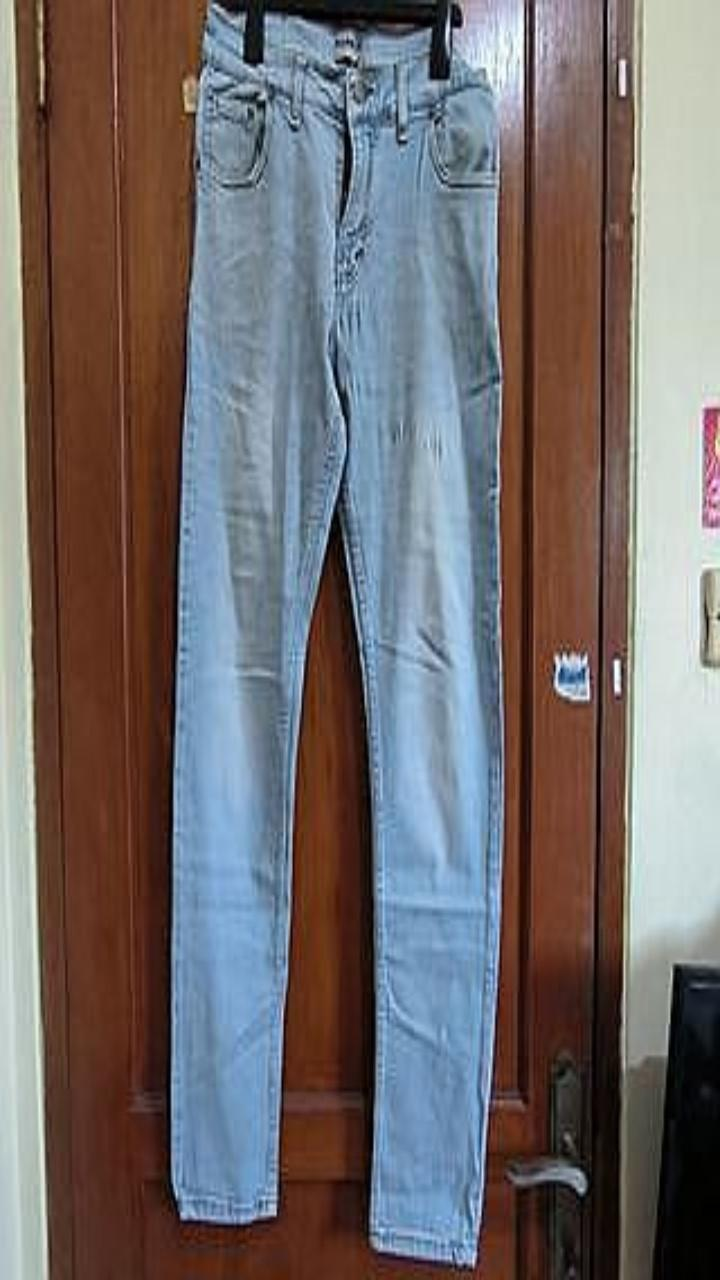Jeans: (171, 2, 502, 1263)
